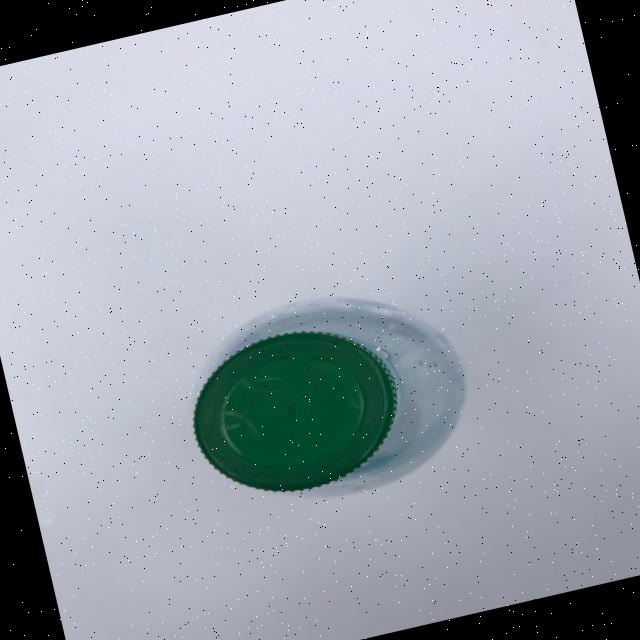plastic: (168, 266, 484, 524)
